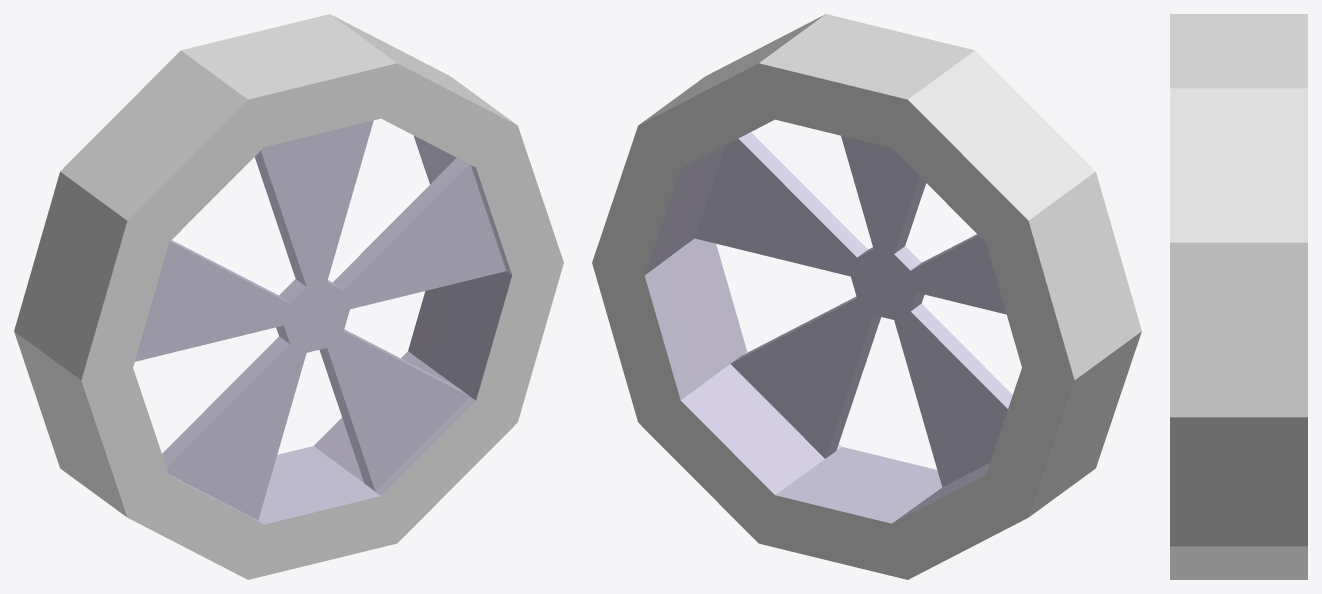
File: Wheel Spice.fbx
3 renders of one model, left to right at view 1: azimuth 30°, elevation 25°; view 2: azimuth 150°, elevation 25°; view 3: azimuth 270°, elevation 25°, orthographic. The views are drawn at different scales.
Visible parts, largest first — view 1: Muscle 2 wheel front right; view 2: Muscle 2 wheel front right; view 3: Muscle 2 wheel front right.
Boxes of the visible parts, x1,y1,x2,y2 form: Muscle 2 wheel front right: [14, 14, 563, 579]; Muscle 2 wheel front right: [592, 14, 1141, 579]; Muscle 2 wheel front right: [1170, 14, 1307, 579].
Size of the model in its own units: 0.8212 by 0.1984 by 0.781.
